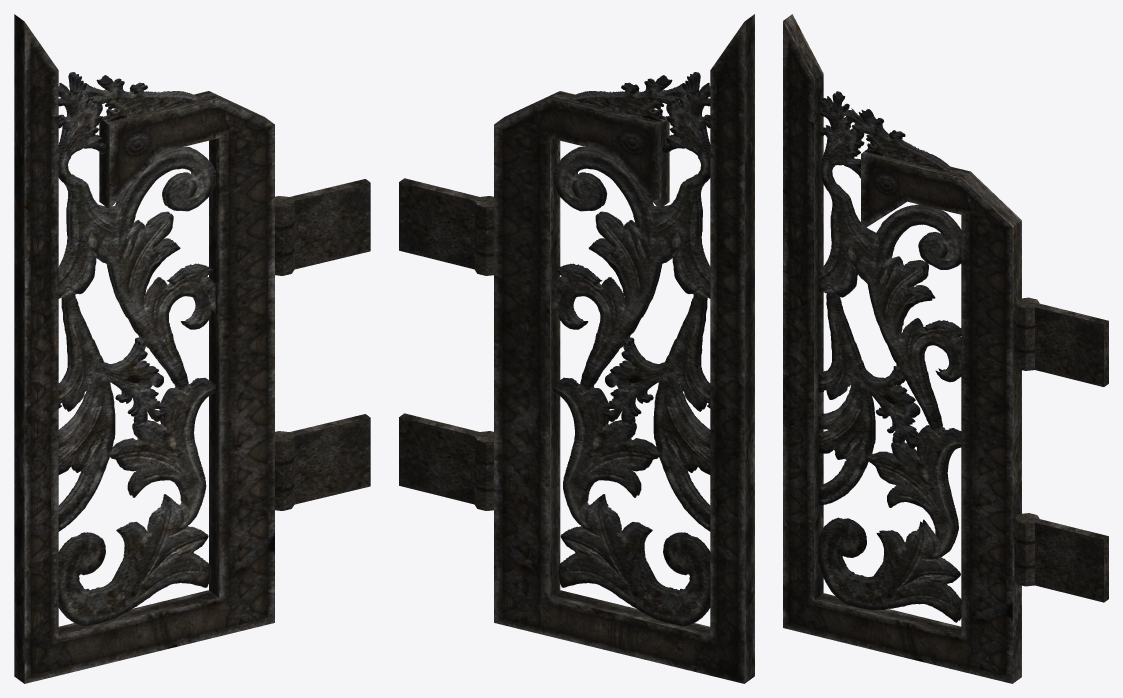
File: elevator_door_unhinged.dae
The picture shows the model from 3 angles, left to right: view 1: azimuth 30°, elevation 25°; view 2: azimuth 150°, elevation 25°; view 3: azimuth 330°, elevation 25°; orthographic projection. The views are drawn at different scales.
Visible parts, largest first — view 1: elevright, hinge_right; view 2: elevright, hinge_right; view 3: elevright, hinge_right.
Boxes of the visible parts, x1,y1,x2,y2 form: elevright: [14, 14, 274, 683]; hinge_right: [275, 179, 370, 510]; elevright: [494, 14, 754, 683]; hinge_right: [399, 178, 493, 510]; elevright: [783, 14, 1021, 683]; hinge_right: [1014, 297, 1108, 602].
Bounding box in the file's own units: 1.68 × 3.05 × 0.1071.
